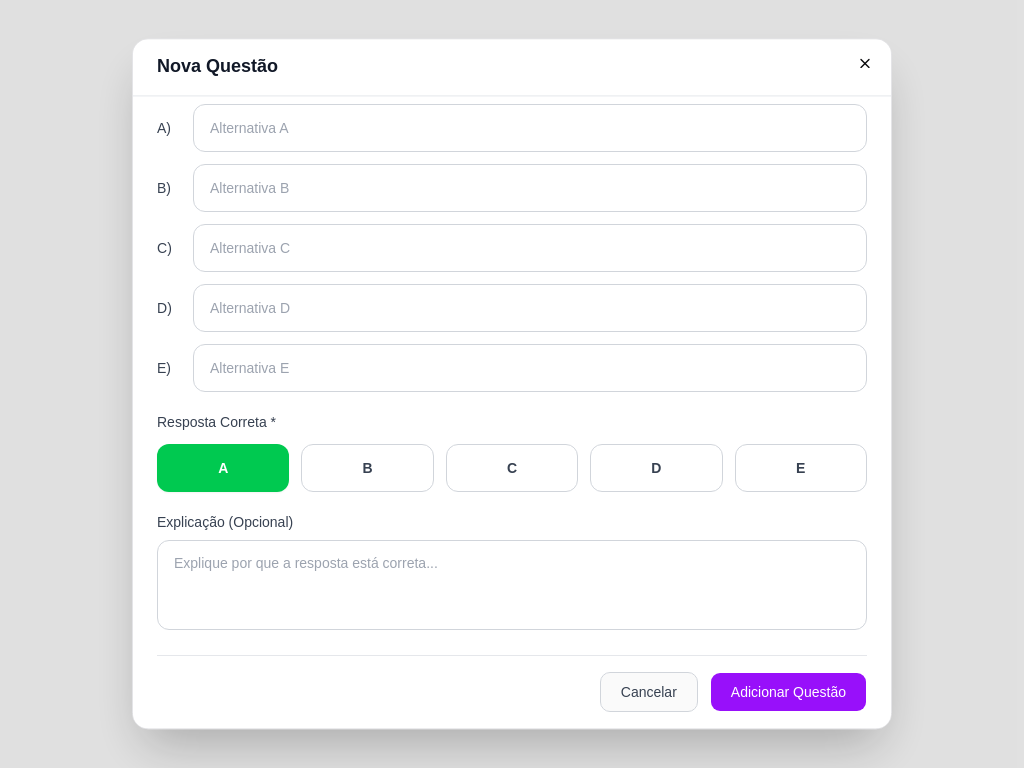
Test: QuestionFormSheet › deve exibir erros de validação ao enviar o formulário vazio
(page scrolled)
Expected: the text "Carregando matérias..." is not shown
What coordinates should you click on to do the following:
click the button "Adicionar Questão"
I would click on:
 (788, 692)
Its box is [710,672,867,712].
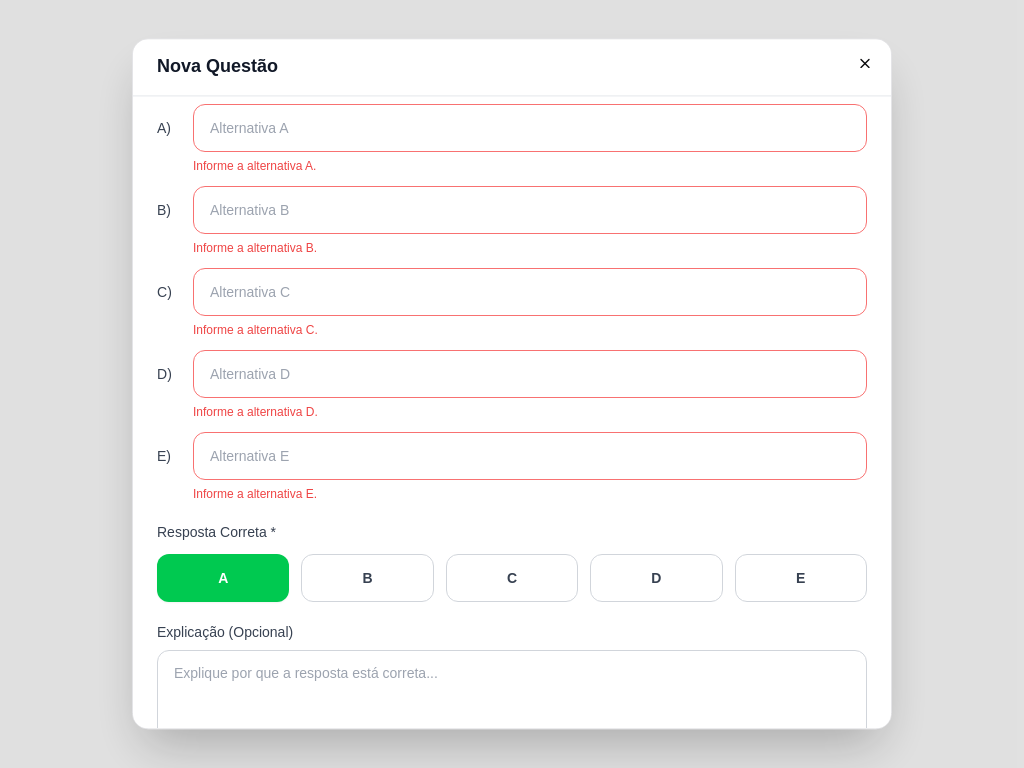
Expected: the text "Informe a ordem." is not shown
Expected: the text "Informe a alternativa A." is shown, [193,159,316,173]
